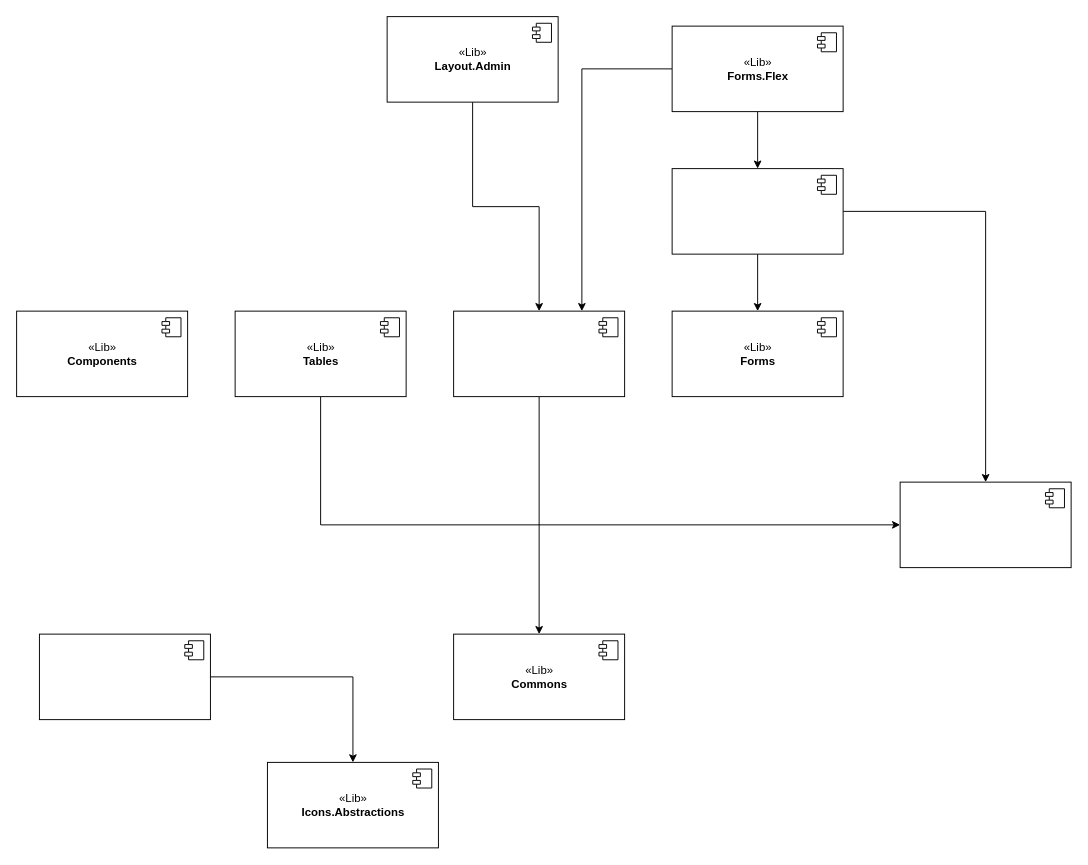
This 1088x865 diagram has some shape labels left out. The shapes that lost their labels are listed below. From the top down, each one's centre as x and y in pixels, then its label:
point 757,211: «Lib» Forms.Editor
point 539,353: «Lib» Layout
point 985,524: «Lib» Editor.Abstractions
point 124,676: «Lib» Icons.Bootstrap
